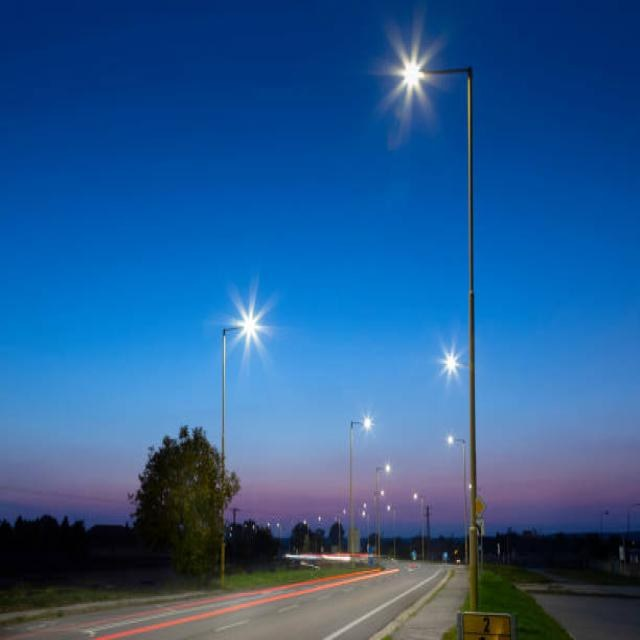acesa: (366, 13, 454, 151), (222, 282, 278, 355), (433, 332, 471, 386), (358, 411, 376, 433)
